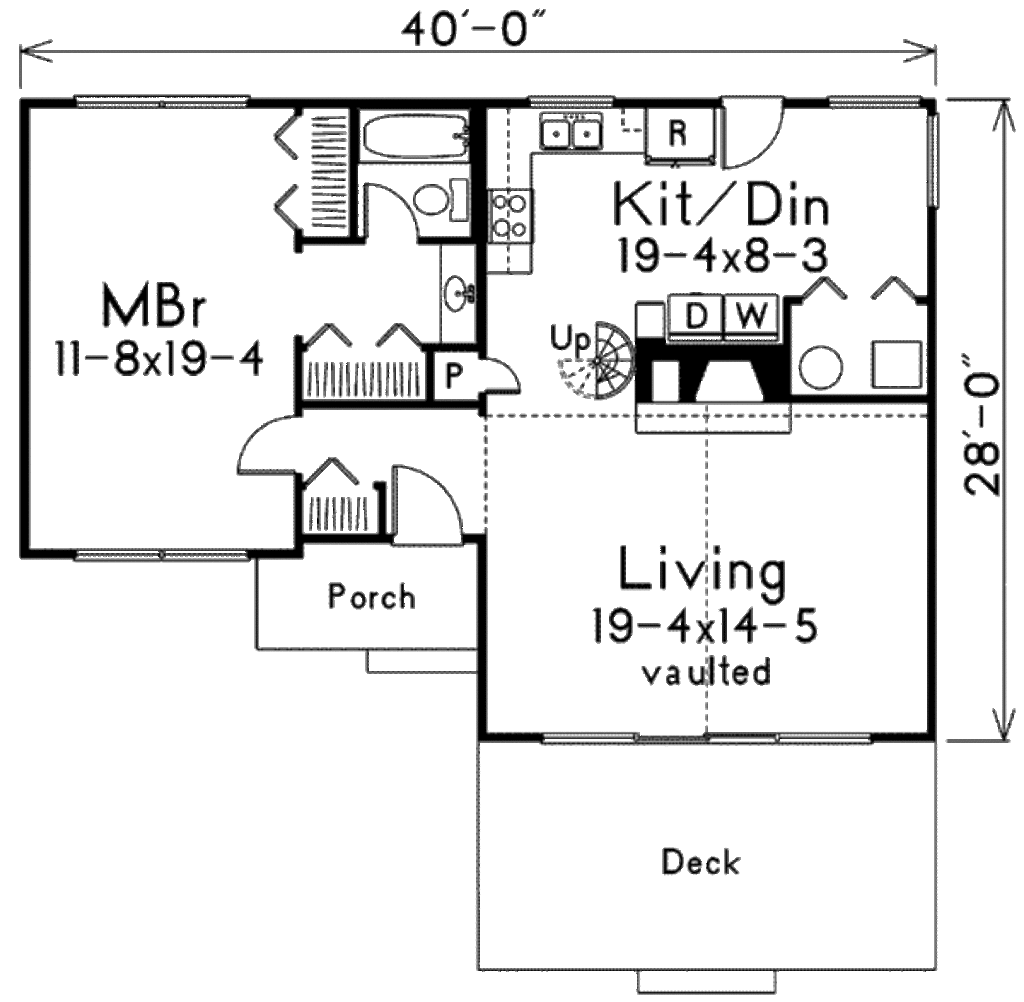door: (386, 464, 478, 542), (717, 86, 791, 181), (230, 403, 302, 484), (363, 181, 420, 248), (481, 355, 522, 397)
large_sink: (410, 167, 472, 233)
small_sink: (436, 251, 481, 336)
tub: (347, 112, 467, 158)
twin_sink: (520, 112, 605, 164)
window: (75, 87, 247, 114), (72, 544, 266, 567), (822, 89, 924, 115), (919, 106, 944, 212), (528, 86, 611, 114), (774, 731, 889, 745), (539, 730, 647, 744)
